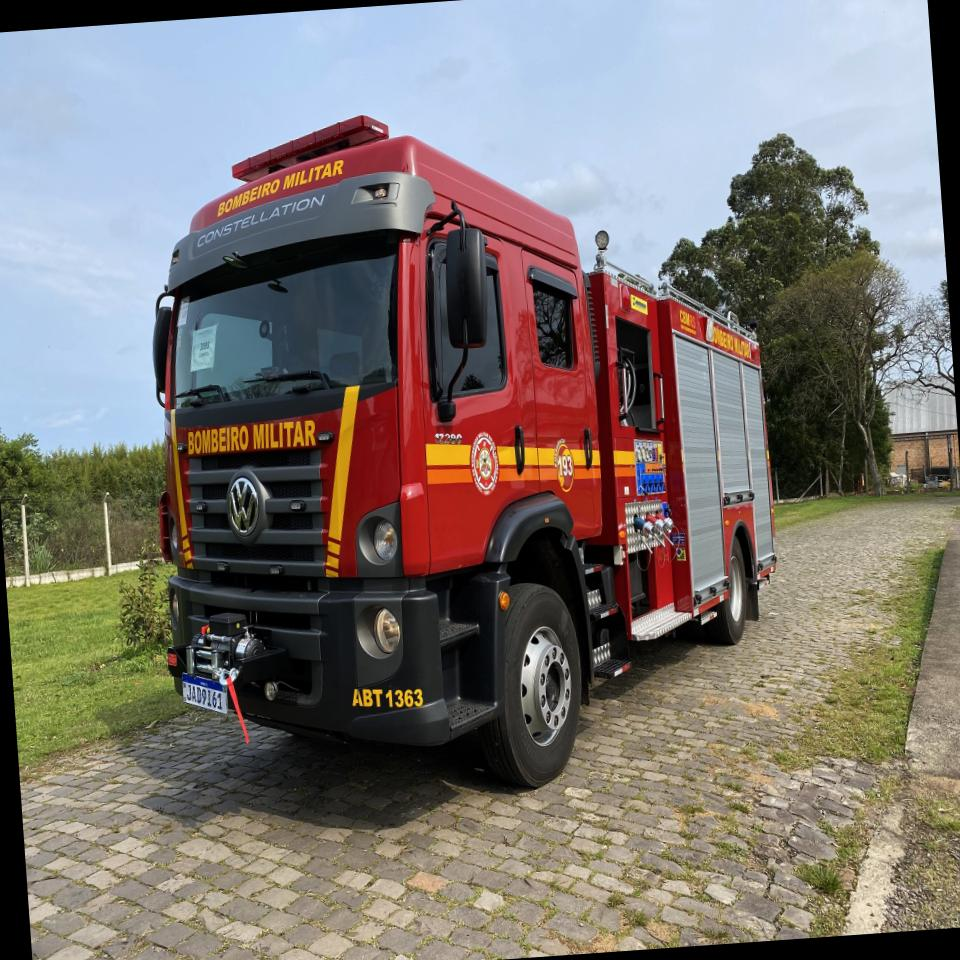viatura: (130, 87, 792, 814)
